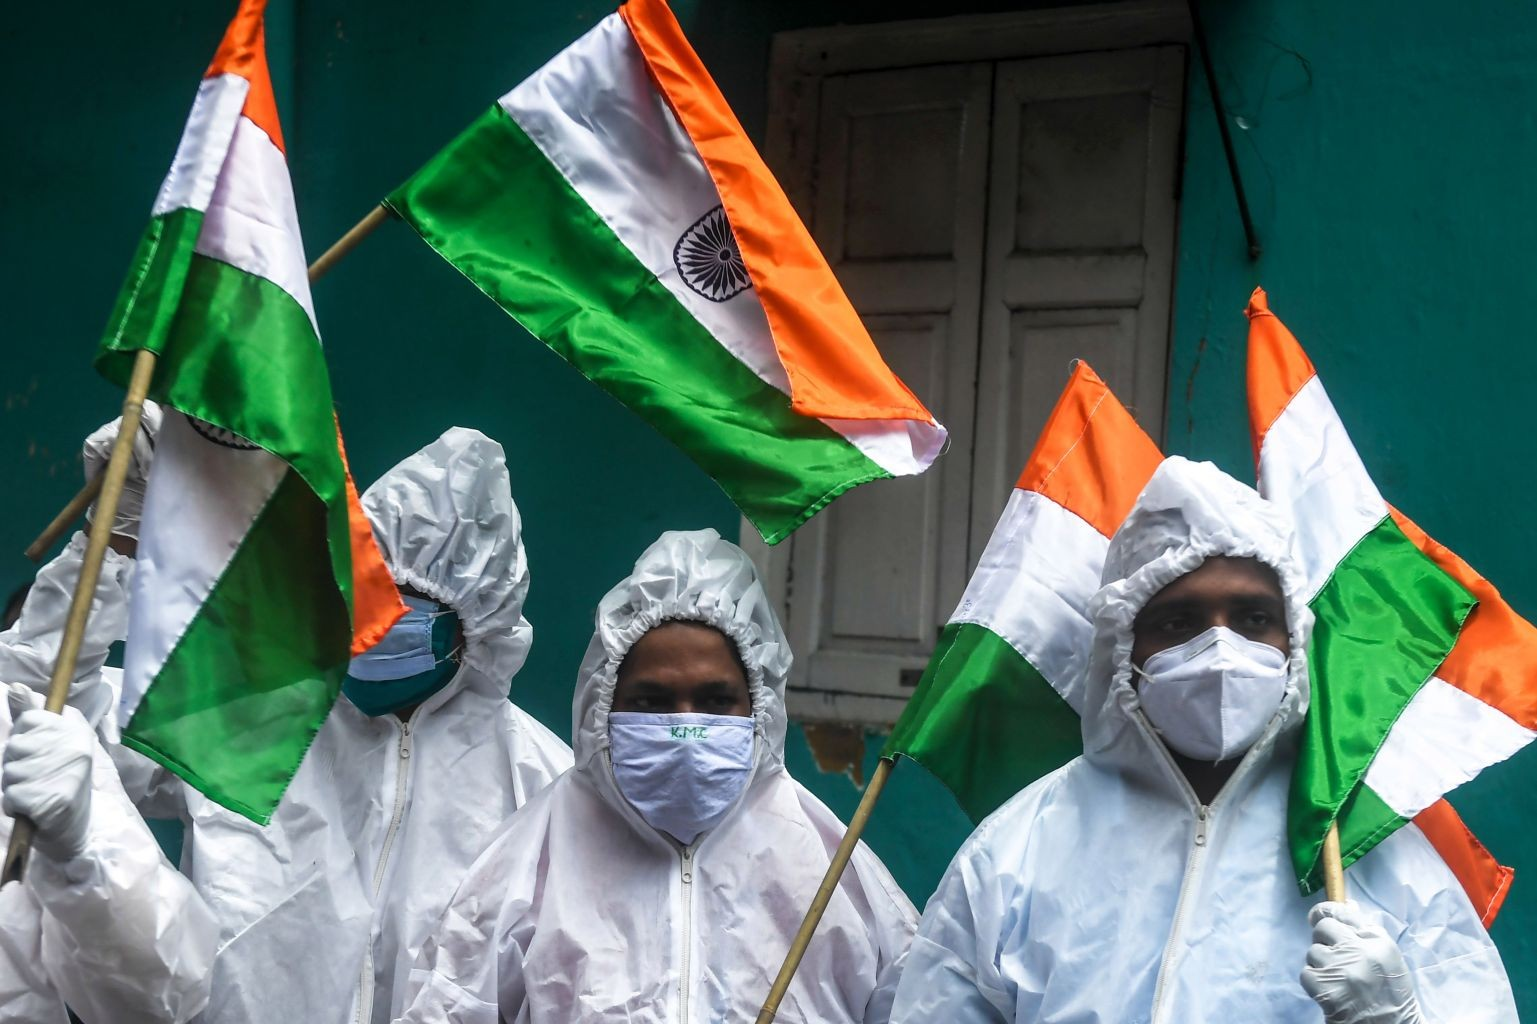Coverall: (869, 451, 1524, 1024), (393, 523, 929, 1024), (198, 420, 578, 1024)
Gloves: (58, 388, 174, 546), (1293, 895, 1428, 1024), (1, 679, 96, 860)
with_mask: (1136, 590, 1289, 771), (611, 669, 753, 833), (348, 596, 458, 691)
